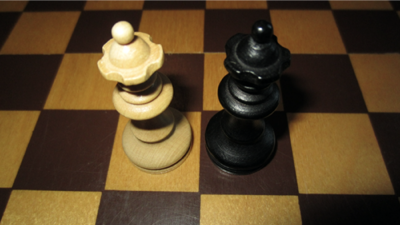black-queen: (204, 20, 294, 176)
white-queen: (97, 19, 195, 176)
